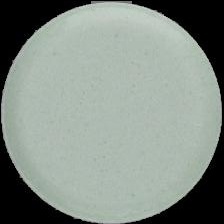0185-0074: (0, 0, 224, 224)
